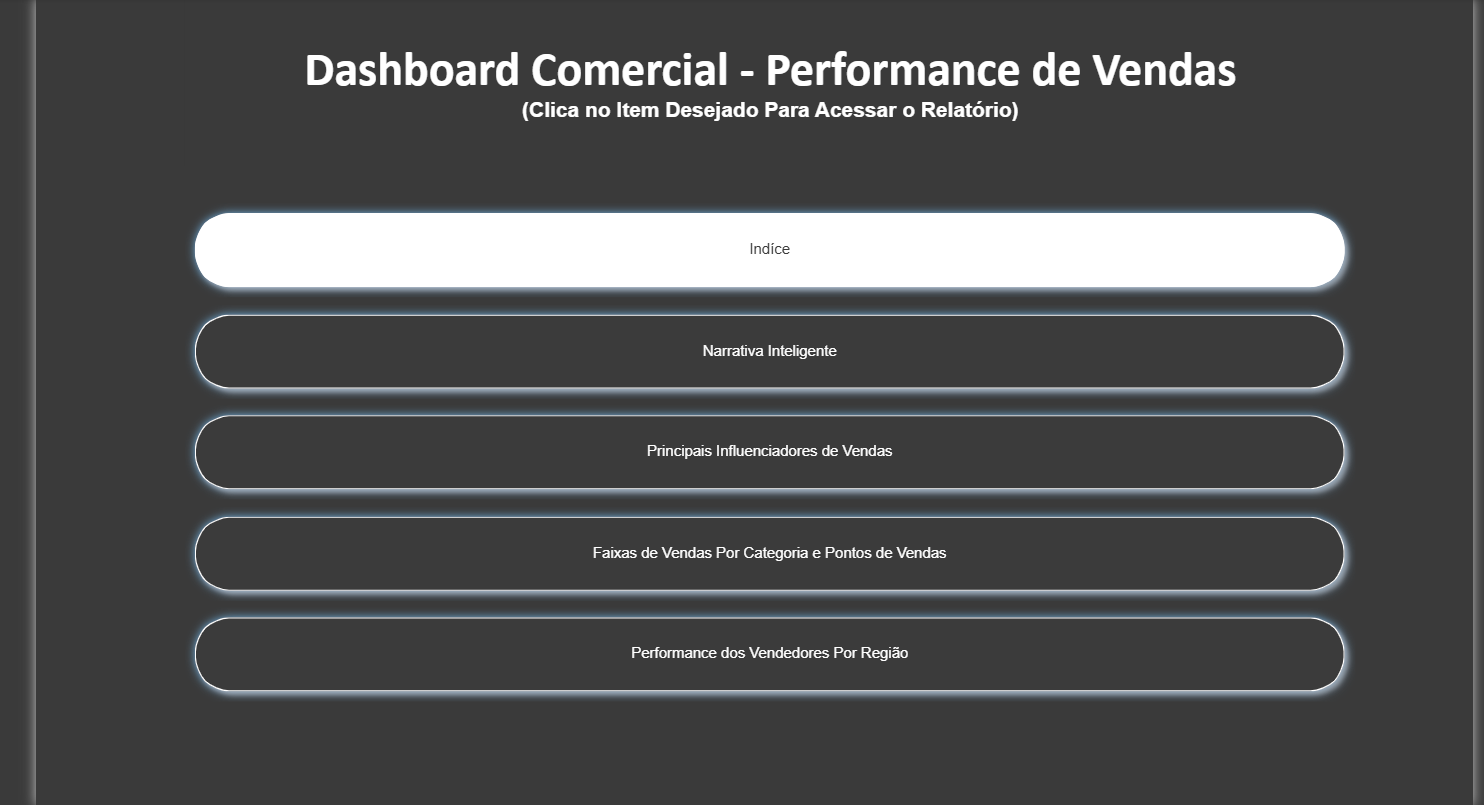

The dashboard page shown, as its layout file describes it:
{"tool":"powerbi","page":{"name":"Indíce","canvas":[1280,720],"ordinal":0},"visuals":[{"type":"pageNavigator","box":[132.5,182.8,1043,447.9],"z":0},{"type":"textbox","box":[132.5,0,1043,149.7],"z":1000}]}

Visuals, with their boxes on the page's 1280x720 design canvas (x1, y1, x2, y2). These are canvas units, not pixel positions in the 1484x805 screenshot, which may show the page scaled, cropped or inside an application window:
pageNavigator: [132,183,1176,631]
textbox: [132,0,1176,150]
